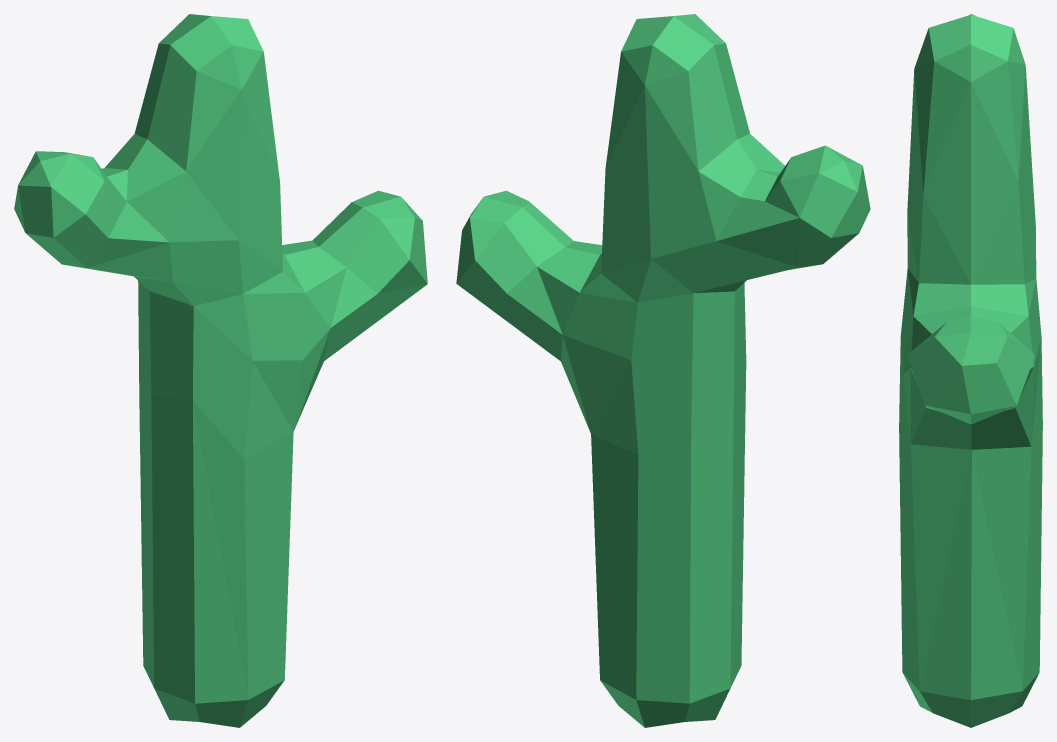
Rendered from cactus4.fbx.
3 renders of one model, left to right at view 1: azimuth 30°, elevation 25°; view 2: azimuth 150°, elevation 25°; view 3: azimuth 270°, elevation 25°, orthographic.
Parts seen in each view (by area): view 1: cactus4; view 2: cactus4; view 3: cactus4.
Boxes of the visible parts, bbox=[...] form: cactus4: bbox=[14, 14, 427, 727]; cactus4: bbox=[456, 14, 870, 727]; cactus4: bbox=[899, 14, 1042, 727].
Size of the model in its own units: 82.95 by 141 by 26.24.
